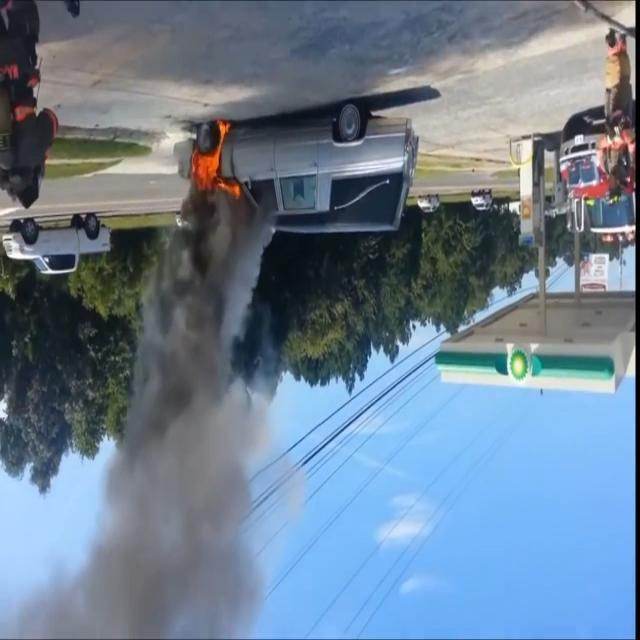fire: (188, 114, 246, 208)
